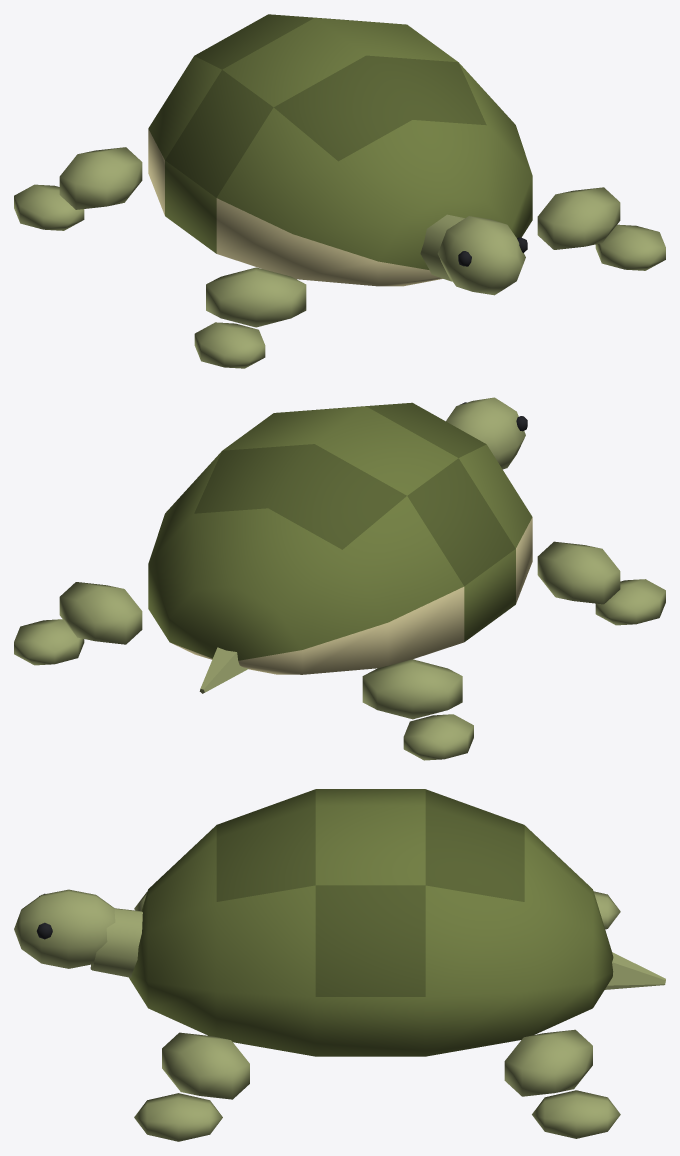
The model's file is turtle.glb.
3 renders of one model, top to bottom at view 1: azimuth 30°, elevation 25°; view 2: azimuth 150°, elevation 25°; view 3: azimuth 270°, elevation 25°, orthographic. The views are drawn at different scales.
Visible parts, largest first — view 1: Turtle_Shell, Turtle_LegFR, Turtle_LegFL, Turtle_LegBR, Turtle_Head; view 2: Turtle_Shell, Turtle_LegBR, Turtle_LegBL, Turtle_LegFR, Turtle_Head; view 3: Turtle_Shell, Turtle_Head, Turtle_LegBL, Turtle_LegFL, Turtle_LegBR.
Part boxes in pixels (x1,y1,x2,y2): Turtle_Shell: (148, 14, 532, 286); Turtle_LegFR: (194, 267, 306, 368); Turtle_LegFL: (537, 187, 665, 270); Turtle_LegBR: (14, 147, 142, 230); Turtle_Head: (420, 214, 527, 295); Turtle_Shell: (148, 402, 532, 693); Turtle_LegBR: (362, 659, 473, 760); Turtle_LegBL: (14, 582, 142, 665); Turtle_LegFR: (537, 541, 665, 625); Turtle_Head: (446, 397, 527, 469); Turtle_Shell: (129, 789, 665, 1056); Turtle_Head: (14, 889, 142, 977); Turtle_LegBL: (504, 1029, 620, 1138); Turtle_LegFL: (134, 1032, 249, 1141); Turtle_LegBR: (593, 891, 620, 929).
Bounding box in the file's own units: 0.8239 × 0.3632 × 0.9508.
